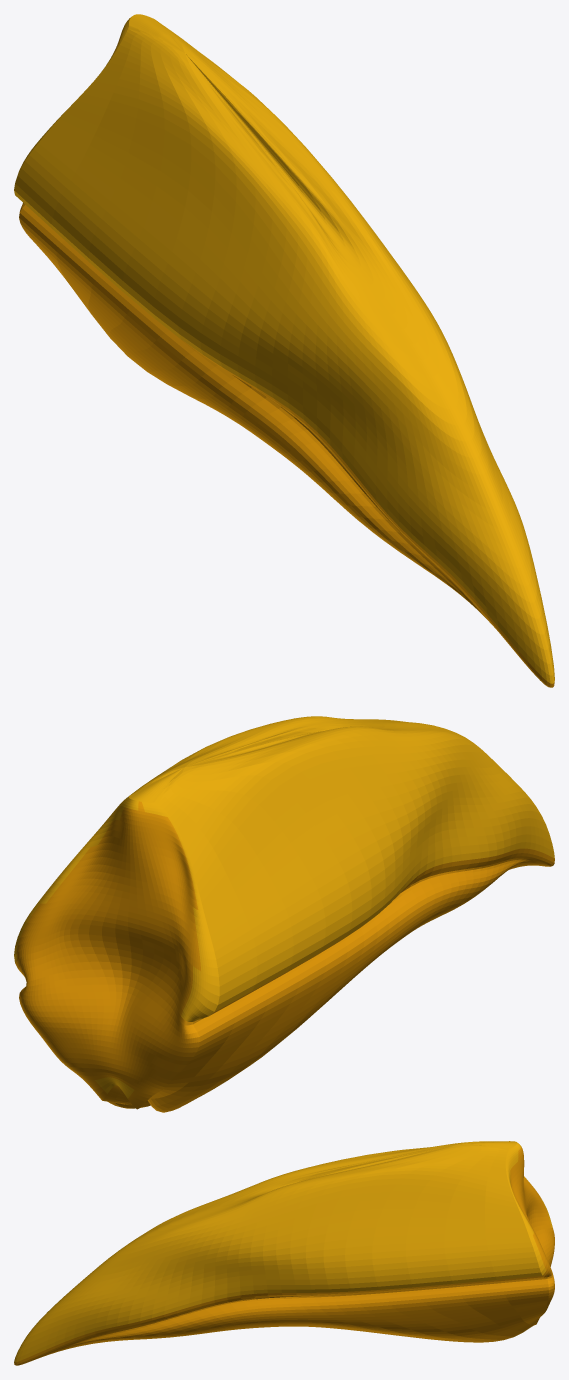
3 renders of one model, top to bottom at view 1: azimuth 30°, elevation 25°; view 2: azimuth 150°, elevation 25°; view 3: azimuth 270°, elevation 25°, orthographic. The views are drawn at different scales.
Visible parts, largest first — view 1: BirdMouth; view 2: BirdMouth; view 3: BirdMouth.
Part boxes in pixels (x1,y1,x2,y2): BirdMouth: (14,14,554,687); BirdMouth: (14,716,554,1112); BirdMouth: (14,1141,554,1365).
Size of the model in its own units: 0.1428 by 0.2463 by 0.5418.
